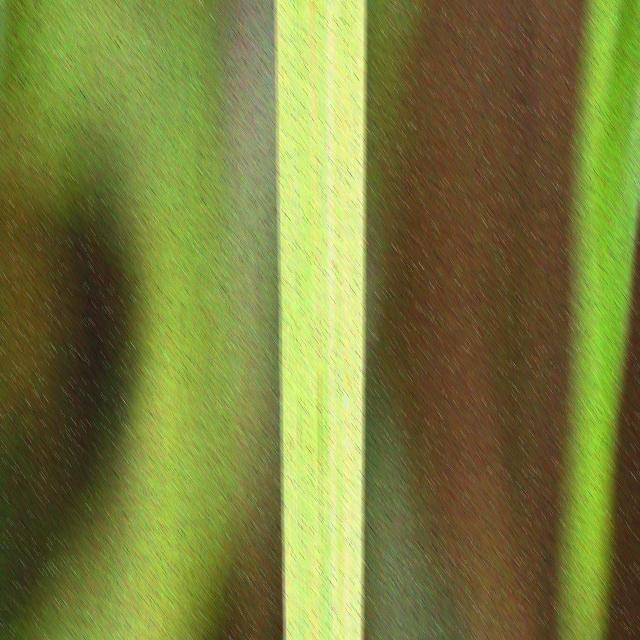BLS: (310, 0, 322, 553), (341, 174, 350, 640), (337, 500, 344, 640), (286, 516, 292, 640), (310, 533, 316, 640)
